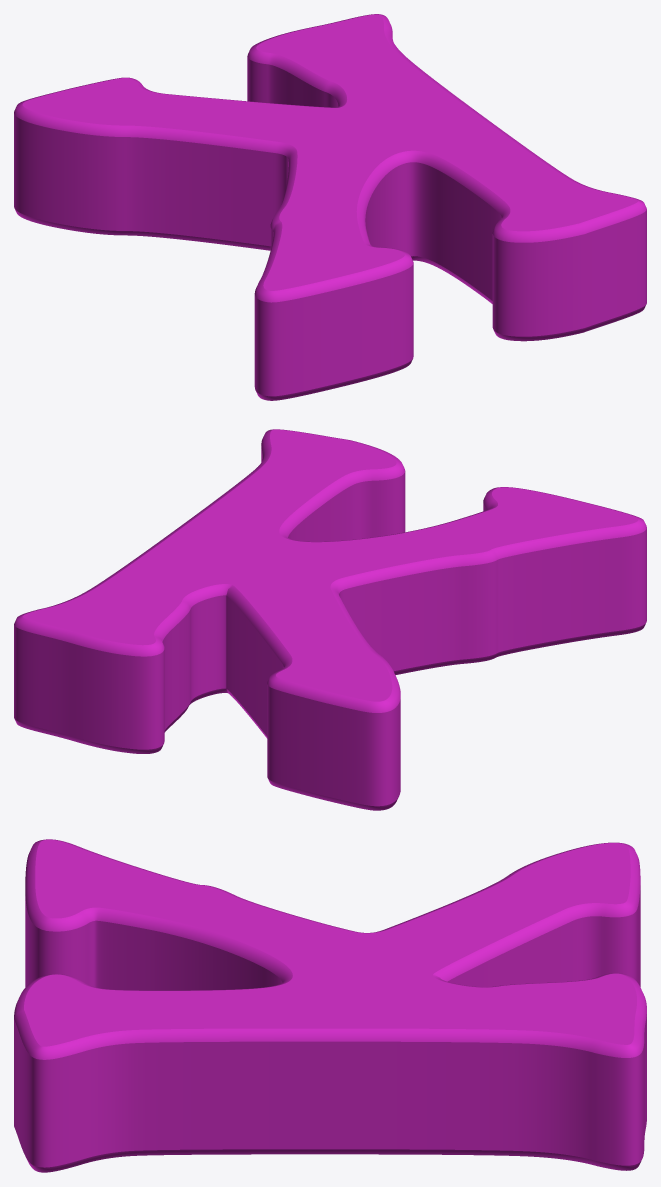
File: Bubble_LetterK.fbx
3 renders of one model, top to bottom at view 1: azimuth 30°, elevation 25°; view 2: azimuth 150°, elevation 25°; view 3: azimuth 270°, elevation 25°, orthographic. The views are drawn at different scales.
Parts seen in each view (by area): view 1: BubbleLetter_K; view 2: BubbleLetter_K; view 3: BubbleLetter_K.
Boxes of the visible parts, box(x1,y1,x2,y2) form: BubbleLetter_K: box(14, 14, 646, 400); BubbleLetter_K: box(14, 429, 646, 810); BubbleLetter_K: box(14, 839, 646, 1172).
Size of the model in its own units: 0.5151 by 0.14 by 0.6396.
